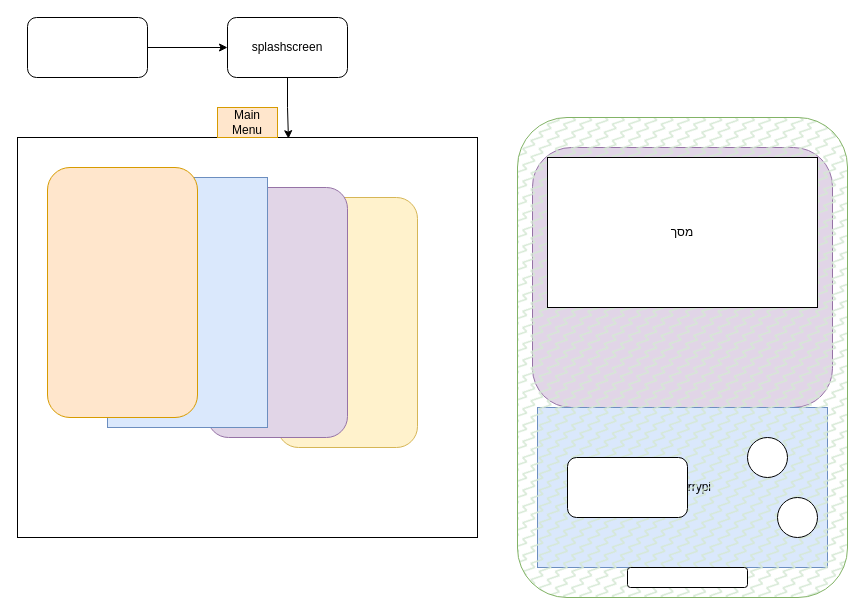
The diagram is 865 pixels wide and 615 high, and some of its shapes have lost their labels. Each missing label, with the box of its shape:
start: (26, 16, 148, 78)
חיבור USB: (626, 566, 748, 588)
מקשי חצים: (566, 456, 688, 518)
